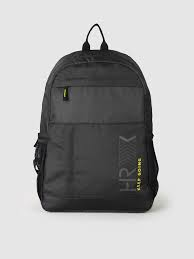backpack: (32, 23, 159, 212)
